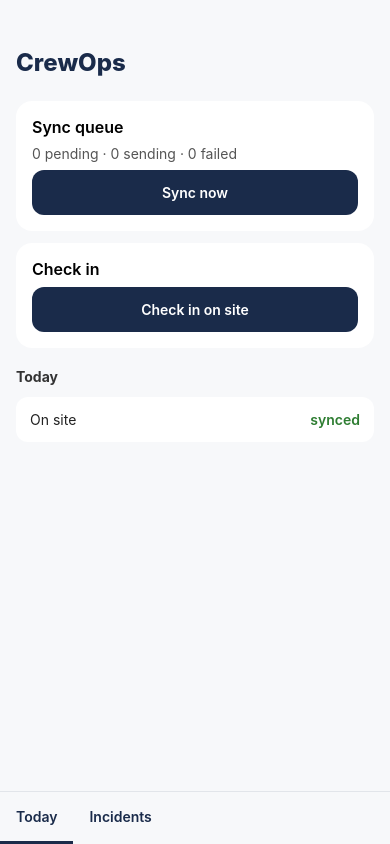
Scenario: App › incident form validates and reports offline
Click the text "Incidents": (121, 816) [90, 808, 152, 825]
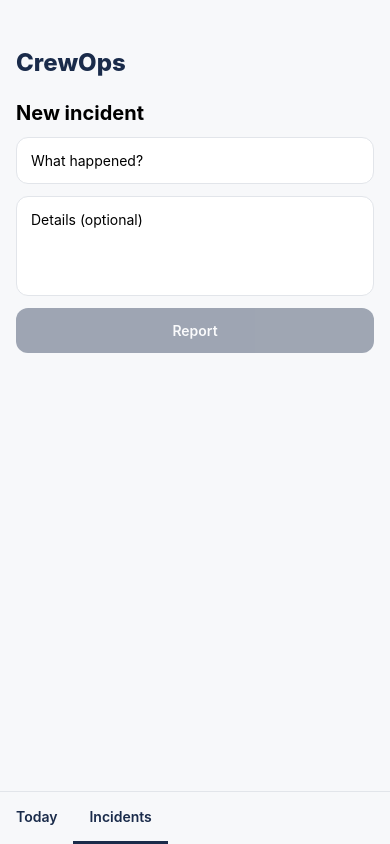
In the field named "Incident title": (195, 160) [16, 137, 374, 184], type "Missing railing"
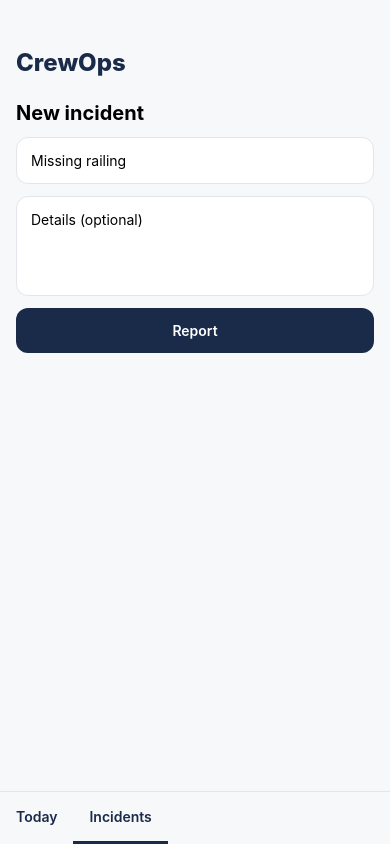
Click the element named "Report incident": (195, 330) [16, 308, 374, 353]
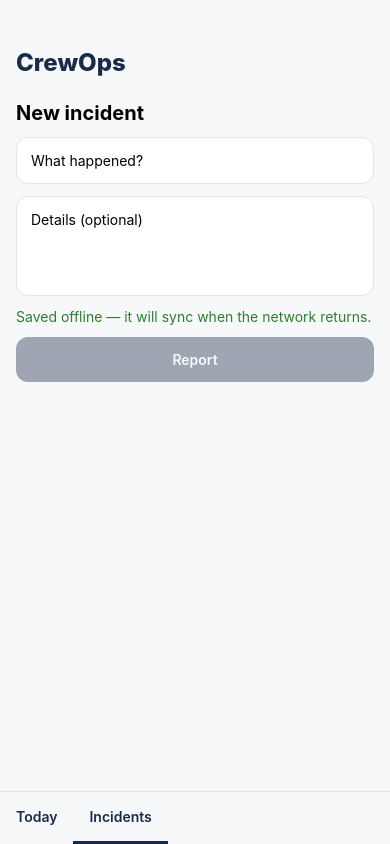
Result: the text named "Queued offline note" is shown at [16, 308, 374, 325]
